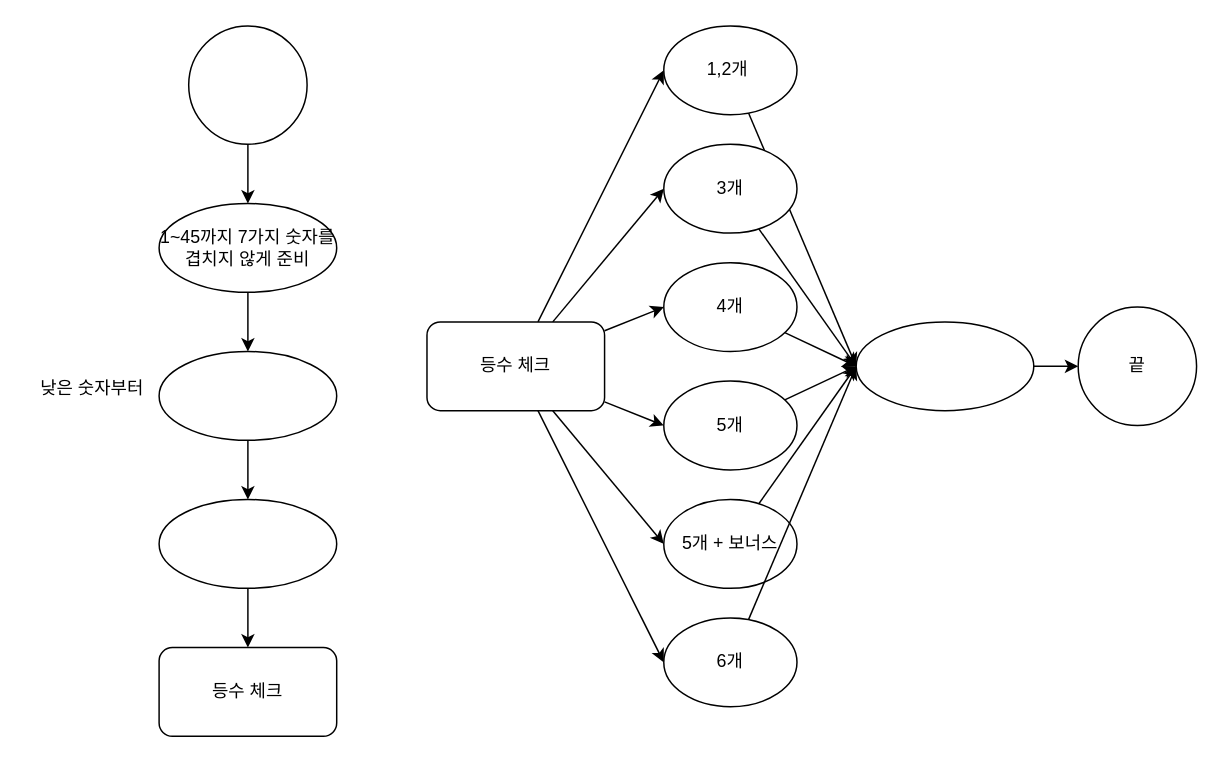
Image size: 1222x762. Some labels were removed from this diagram. Here are the shapes that lost their labels. From the top down, the centre of each, then its label:
At point (247, 84): "시작".
At point (944, 365): "순위 표시".
At point (247, 395): "숫자를 1초마다 하나씩 차례로 보여준다.".
At point (247, 543): "마지막 번호는 보너스 번호".
